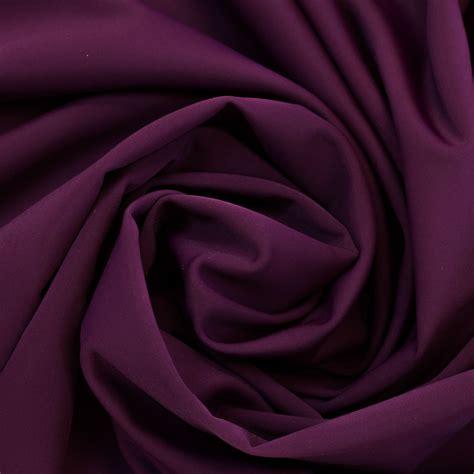nylon: (3, 3, 474, 474)
